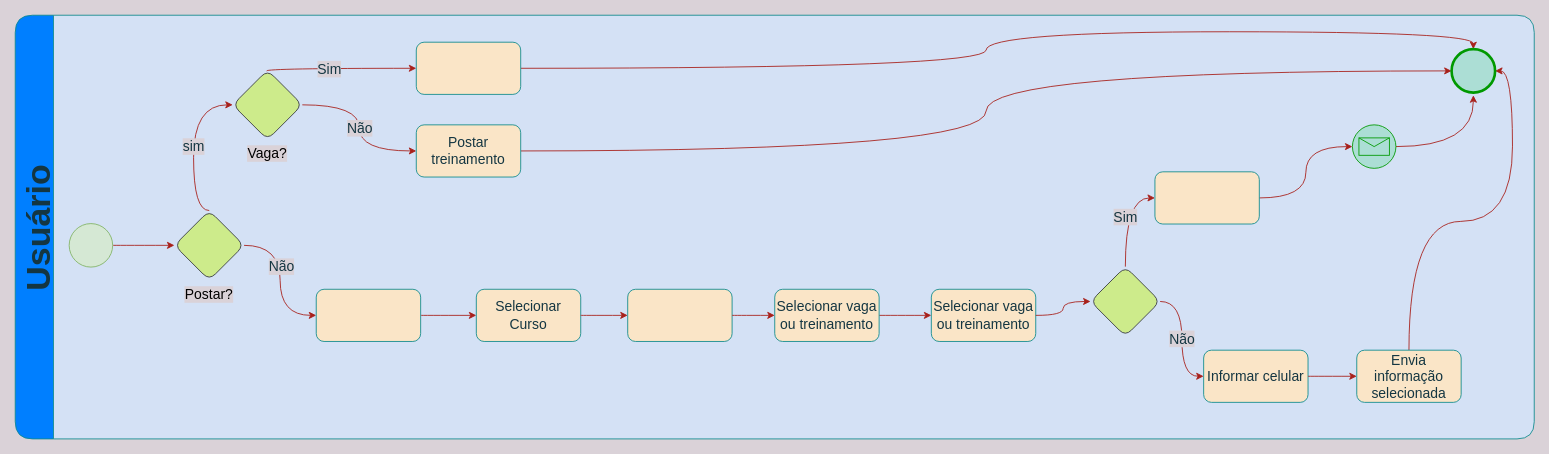
Some shapes in this 1549 by 454 pixel diagram are drawn without their labels. The centre of each missing label's shape, as x and y in pixels:
Apresentar vagas e treinamentos: [679,314]
Consultar: [368,314]
E-mail?: [1125,301]
Informar e-mail: [1206,197]
Postar vaga: [468,67]
